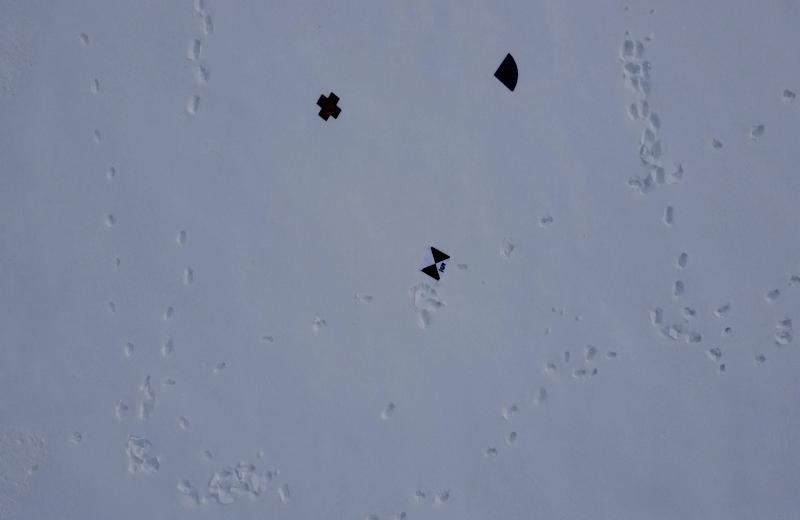Cross: (316, 89, 344, 123)
Quarter Circle: (490, 50, 524, 98)
